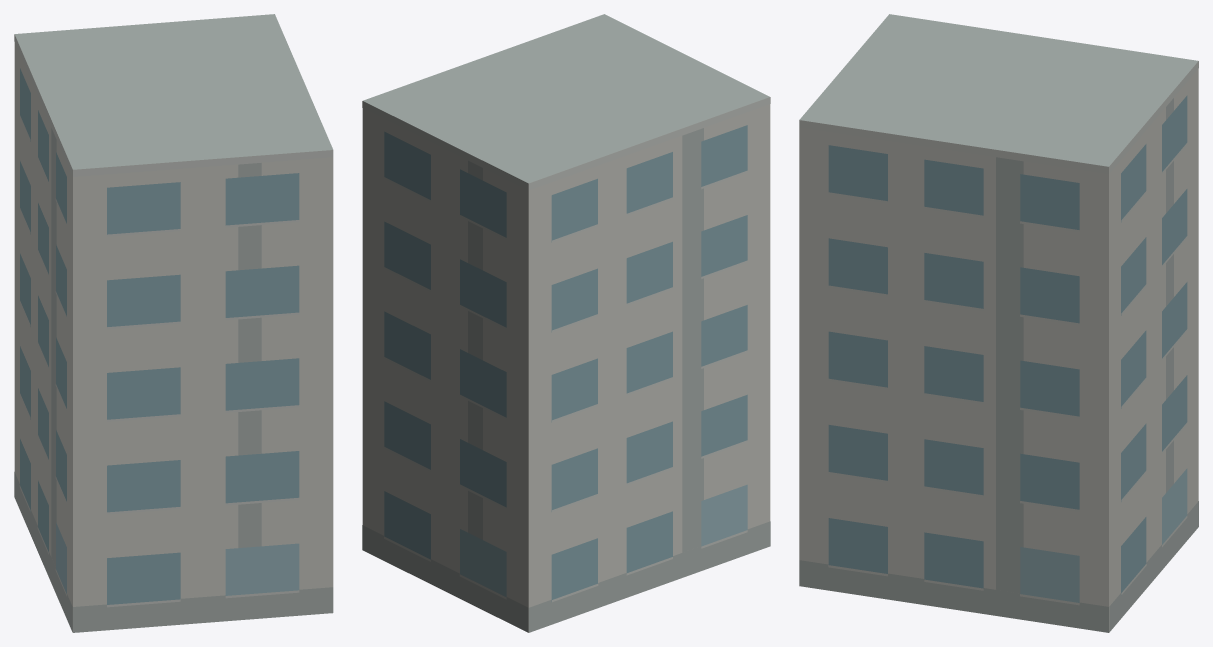
Rendered from residential-cc7548b2-70b7-478b-a5e8-75f0f78ba09e.glb.
The picture shows the model from 3 angles, left to right: view 1: azimuth 30°, elevation 25°; view 2: azimuth 150°, elevation 25°; view 3: azimuth 270°, elevation 25°; orthographic projection. The views are drawn at different scales.
Visible parts, largest first — view 1: residential-cc7548b2-70b7-478b-a5e8-75f0f78ba09e.tmp; view 2: residential-cc7548b2-70b7-478b-a5e8-75f0f78ba09e.tmp; view 3: residential-cc7548b2-70b7-478b-a5e8-75f0f78ba09e.tmp.
Part boxes in pixels (x1,y1,x2,y2): residential-cc7548b2-70b7-478b-a5e8-75f0f78ba09e.tmp: (14, 14, 333, 632); residential-cc7548b2-70b7-478b-a5e8-75f0f78ba09e.tmp: (362, 14, 770, 632); residential-cc7548b2-70b7-478b-a5e8-75f0f78ba09e.tmp: (799, 14, 1198, 632).
Size of the model in its own units: 10.73 by 15.25 by 11.86.
